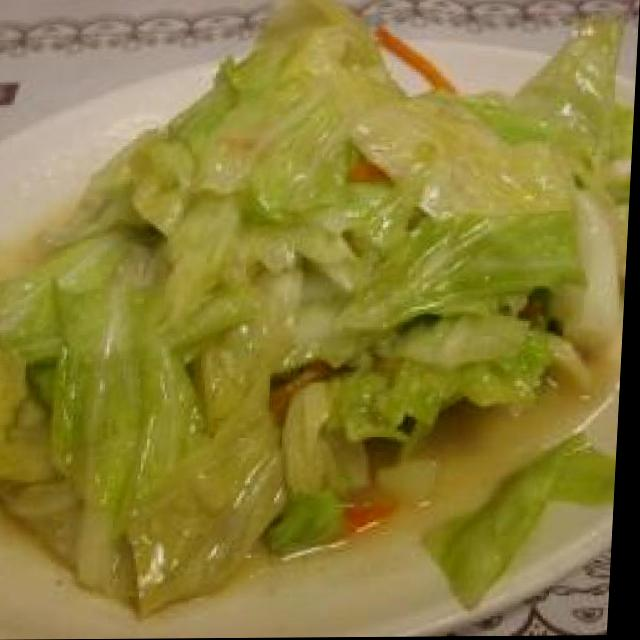chinese_cabbage: (0, 81, 637, 595)
